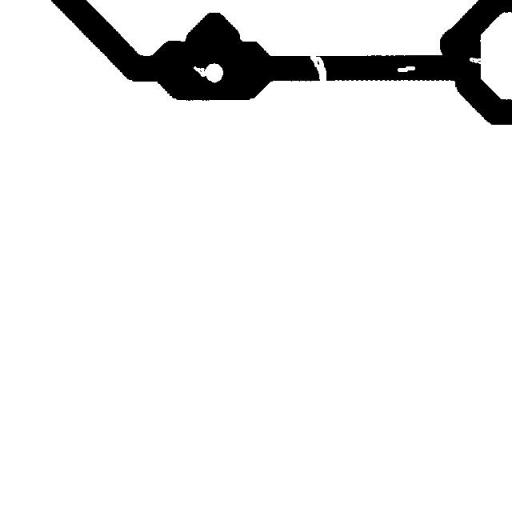mousebite: (186, 58, 214, 84), (462, 50, 490, 71)
open: (302, 46, 334, 90)
pin-hole: (390, 58, 422, 80)
